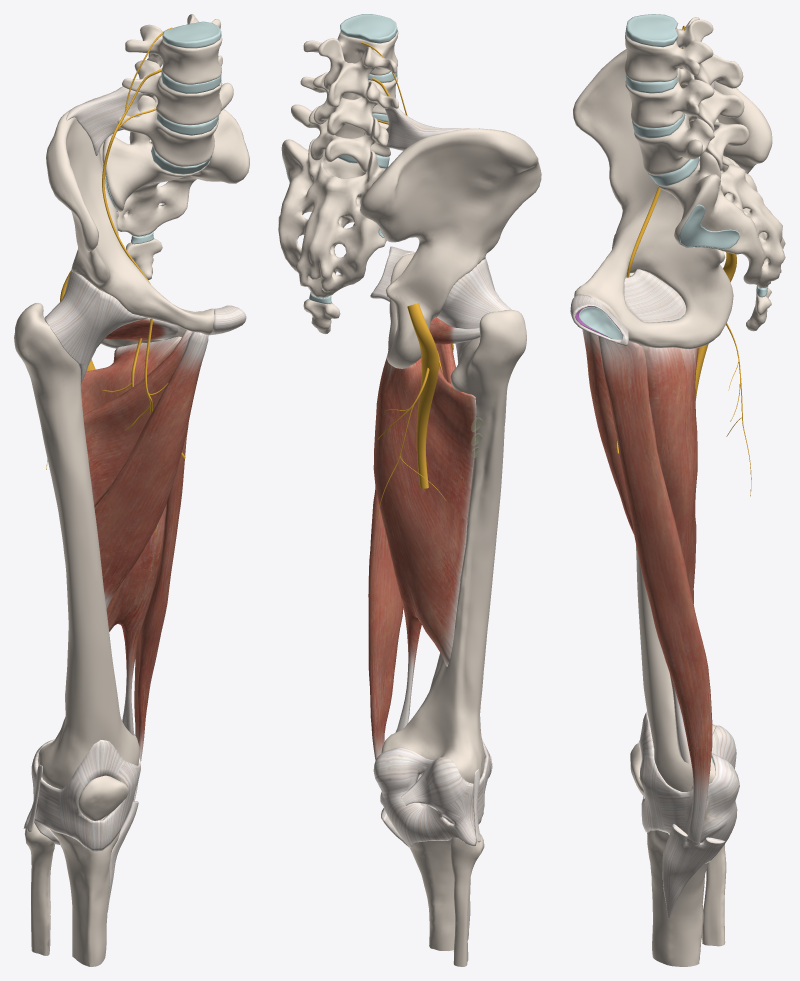
Rendered from medial-thigh-adductors-of-thigh.glb.
3 views of the same model, side by side, from view 1: azimuth 30°, elevation 25°; view 2: azimuth 150°, elevation 25°; view 3: azimuth 270°, elevation 25° (orthographic). The views are drawn at different scales.
Parts seen in each view (by area): view 1: Femur.r, Hip bone.r, Adductor longus.r, Sacrum, Adductor magnus.r, Articular capsule of knee joint.r, Adductor brevis.r, Tibia.r, Hip joint capsule.r, Gracilis muscle.r, Lumbar vertebra (L5), Lumbar vertebra (L3) (+12 smaller); view 2: Hip bone.r, Adductor magnus.r, Femur.r, Sacrum, Articular capsule of knee joint.r, Gracilis muscle.r, Lumbar vertebra (L3), Tibia.r, Lumbar vertebra (L5), Sciatic nerve.r, Lumbar vertebra (L4), Hip joint capsule.r (+6 smaller); view 3: Hip bone.r, Gracilis muscle.r, Adductor magnus.r, Sacrum, Articular capsule of knee joint.r, Femur.r, Tibia.r, Lumbar vertebra (L3), Lumbar vertebra (L4), Lumbar vertebra (L5), Adductor longus.r, Pes anserinus common tendon.r (+11 smaller).
Boxes of the visible parts, box(x1,y1,x2,y2) form: Femur.r: box(14, 303, 139, 789); Hip bone.r: box(46, 109, 214, 348); Adductor longus.r: box(95, 331, 208, 608); Sacrum: box(102, 109, 249, 236); Adductor magnus.r: box(80, 336, 181, 735); Articular capsule of knee joint.r: box(23, 739, 140, 851); Adductor brevis.r: box(83, 330, 192, 507); Tibia.r: box(50, 816, 119, 966); Hip joint capsule.r: box(44, 271, 147, 383); Gracilis muscle.r: box(133, 423, 188, 801); Lumbar vertebra (L5): box(117, 82, 233, 166); Lumbar vertebra (L3): box(125, 14, 222, 84); Hip bone.r: box(360, 128, 541, 368); Adductor magnus.r: box(373, 357, 476, 732); Femur.r: box(381, 309, 526, 783); Sacrum: box(278, 138, 386, 297); Articular capsule of knee joint.r: box(373, 739, 491, 847); Gracilis muscle.r: box(368, 487, 403, 760); Lumbar vertebra (L3): box(303, 30, 398, 107); Tibia.r: box(410, 816, 470, 950); Lumbar vertebra (L5): box(291, 104, 390, 172); Sciatic nerve.r: box(377, 303, 445, 520); Lumbar vertebra (L4): box(300, 72, 398, 136); Hip joint capsule.r: box(437, 259, 511, 363); Hip bone.r: box(573, 47, 772, 349); Gracilis muscle.r: box(598, 336, 712, 842); Adductor magnus.r: box(641, 345, 698, 763); Sacrum: box(658, 119, 785, 287); Articular capsule of knee joint.r: box(638, 712, 739, 863); Femur.r: box(636, 545, 715, 791); Tibia.r: box(647, 830, 708, 966); Lumbar vertebra (L3): box(624, 17, 743, 88); Lumbar vertebra (L4): box(625, 68, 744, 132); Lumbar vertebra (L5): box(634, 114, 749, 175); Adductor longus.r: box(582, 329, 633, 533); Pes anserinus common tendon.r: box(662, 824, 725, 918).
Size of the model in its own units: 0.2103 by 0.7697 by 0.1528.
22 materials, 5 textured.
